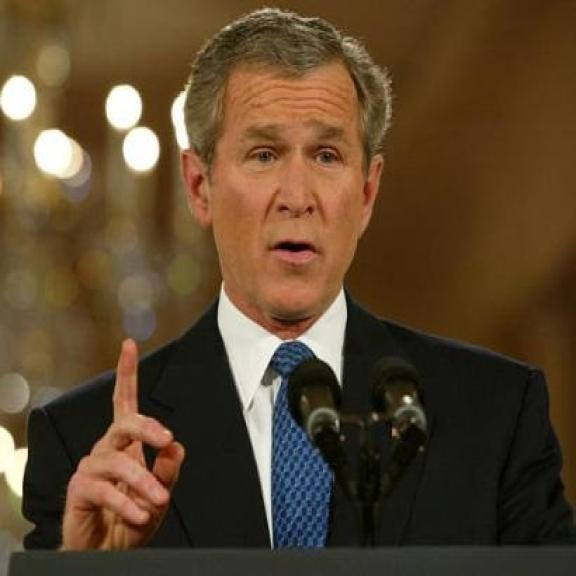face: (177, 52, 402, 323)
